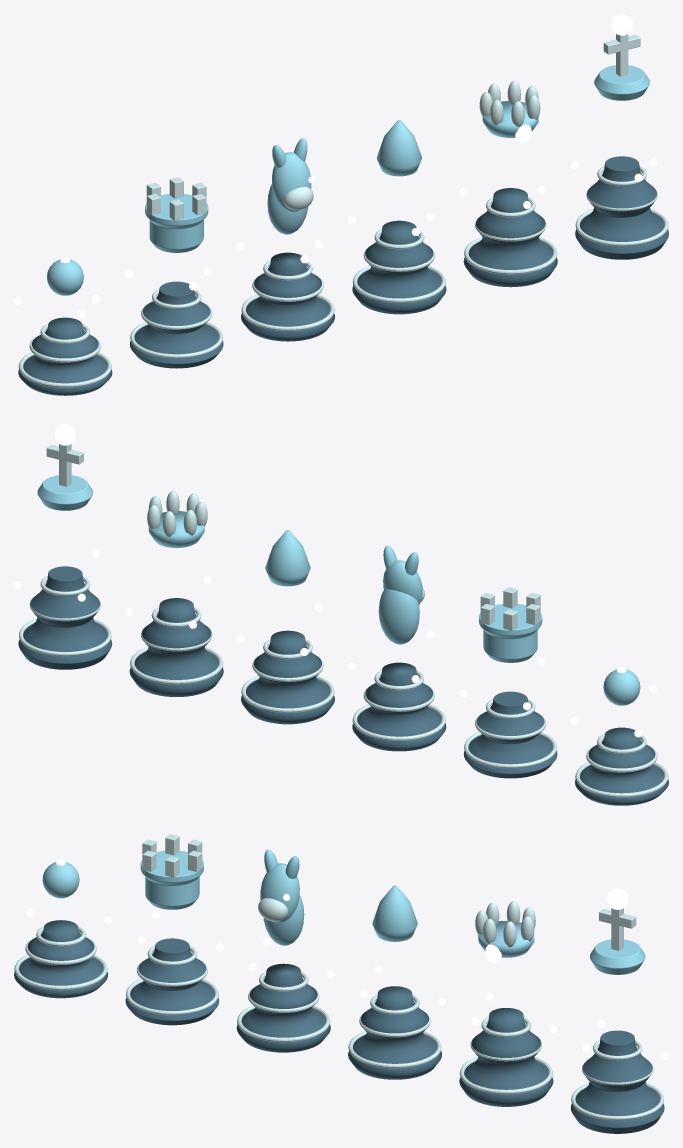
Rendered from 06_Glacial_Hielo_6_Piezas.glb.
3 views of the same model, one above another, from view 1: azimuth 30°, elevation 25°; view 2: azimuth 150°, elevation 25°; view 3: azimuth 330°, elevation 25° (orthographic).
Parts seen in each view (by area): view 1: 06_Glacial_Hielo_Torre, 06_Glacial_Hielo_Rey, 06_Glacial_Hielo_Reina, 06_Glacial_Hielo_Caballo, 06_Glacial_Hielo_Alfil, 06_Glacial_Hielo_Peon; view 2: 06_Glacial_Hielo_Torre, 06_Glacial_Hielo_Rey, 06_Glacial_Hielo_Caballo, 06_Glacial_Hielo_Reina, 06_Glacial_Hielo_Alfil, 06_Glacial_Hielo_Peon; view 3: 06_Glacial_Hielo_Torre, 06_Glacial_Hielo_Rey, 06_Glacial_Hielo_Reina, 06_Glacial_Hielo_Caballo, 06_Glacial_Hielo_Alfil, 06_Glacial_Hielo_Peon.
Boxes of the visible parts, x1,y1,x2,y2 form: 06_Glacial_Hielo_Torre: (125,177,223,368); 06_Glacial_Hielo_Rey: (570,14,668,259); 06_Glacial_Hielo_Reina: (459,81,557,287); 06_Glacial_Hielo_Caballo: (236,138,334,341); 06_Glacial_Hielo_Alfil: (348,120,446,314); 06_Glacial_Hielo_Peon: (14,256,112,395); 06_Glacial_Hielo_Torre: (459,587,557,778); 06_Glacial_Hielo_Rey: (14,424,112,669); 06_Glacial_Hielo_Caballo: (348,545,446,751); 06_Glacial_Hielo_Reina: (125,491,223,696); 06_Glacial_Hielo_Alfil: (236,530,334,724); 06_Glacial_Hielo_Peon: (570,666,668,805); 06_Glacial_Hielo_Torre: (125,834,223,1025); 06_Glacial_Hielo_Rey: (571,888,668,1133); 06_Glacial_Hielo_Reina: (459,901,557,1106); 06_Glacial_Hielo_Caballo: (236,849,334,1052); 06_Glacial_Hielo_Alfil: (348,885,446,1079); 06_Glacial_Hielo_Peon: (14,859,112,998).
Bounding box in the file's own units: 8.16 × 2.77 × 1.09.
